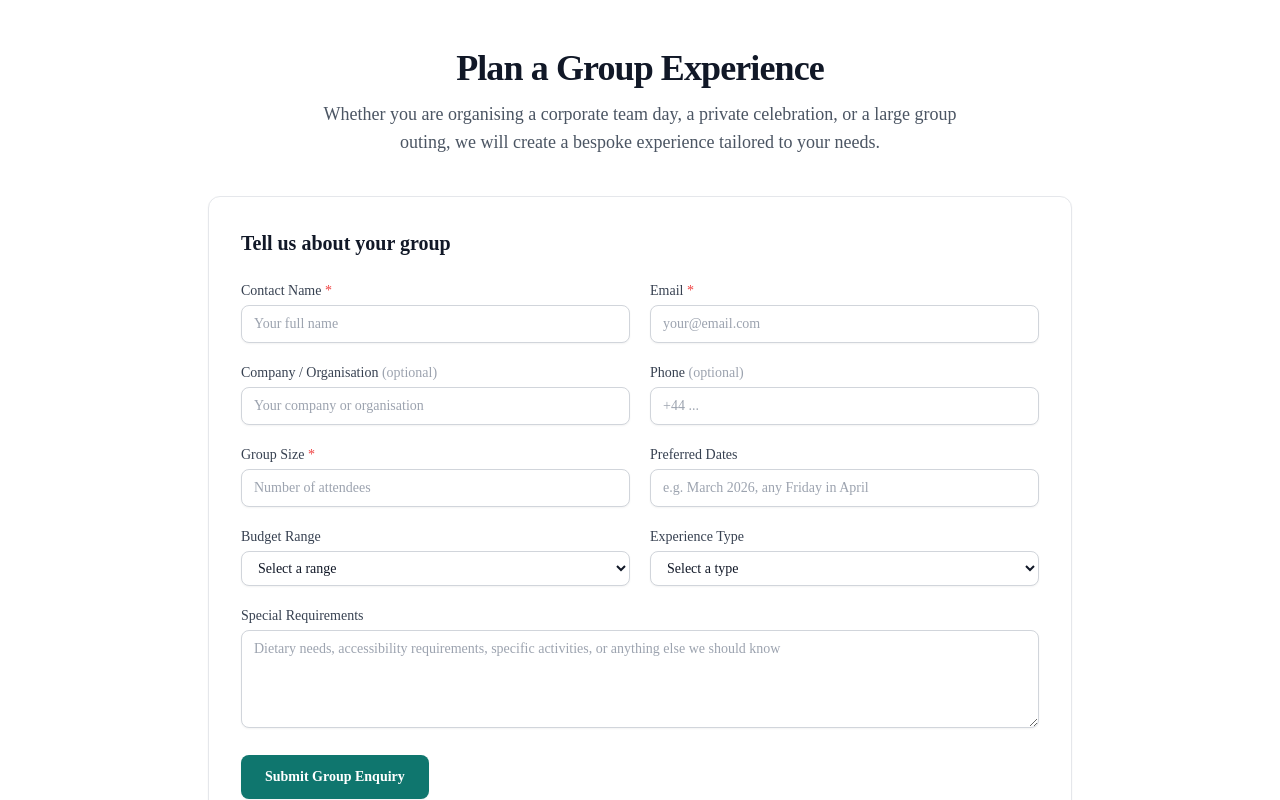
Test: GroupEnquiryPage › shows error when submission fails
The width and height of the screenshot is (1280, 800).
Type "John" into the field labelled "Contact Name *".
click(436, 324); type("John")  # box top-left (241, 305), bottom-right (630, 343)
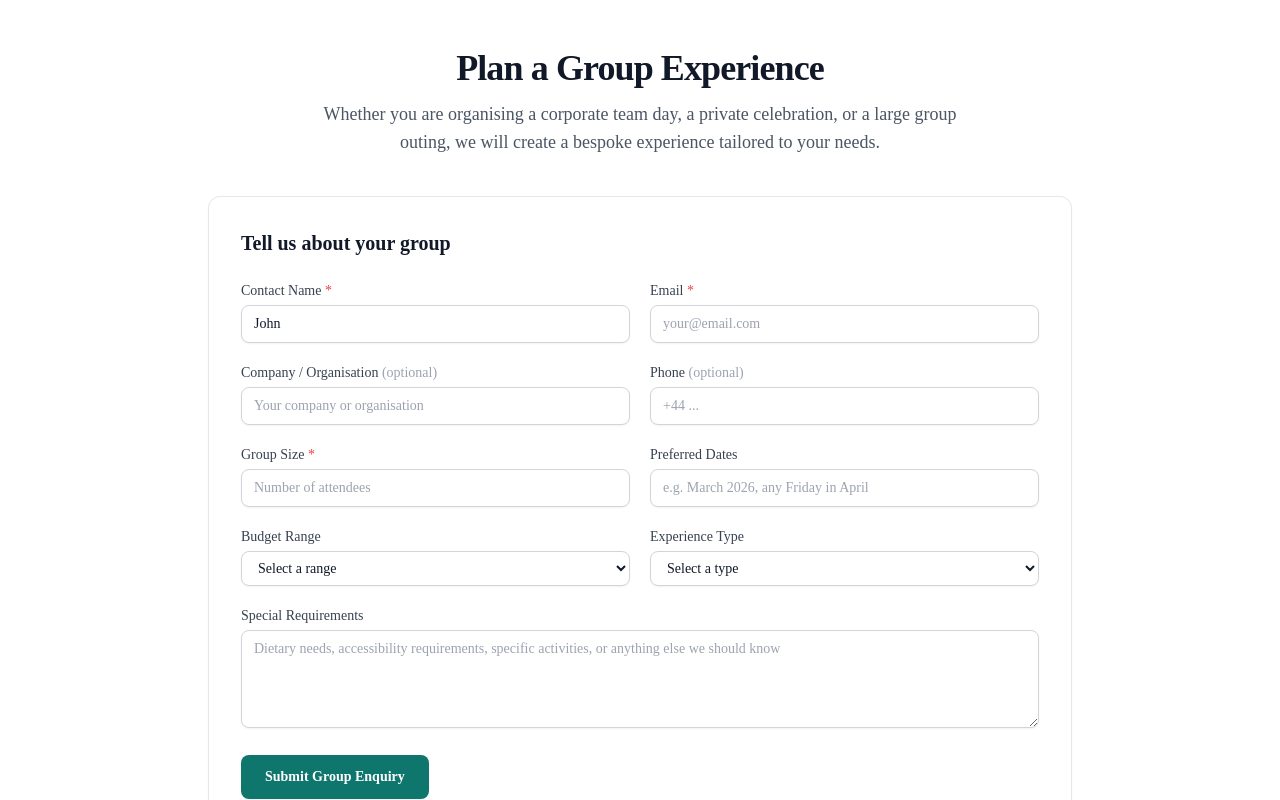
Type "john@test.com" into the field labelled "Email *".
click(844, 324); type("john@test.com")  # box top-left (650, 305), bottom-right (1039, 343)
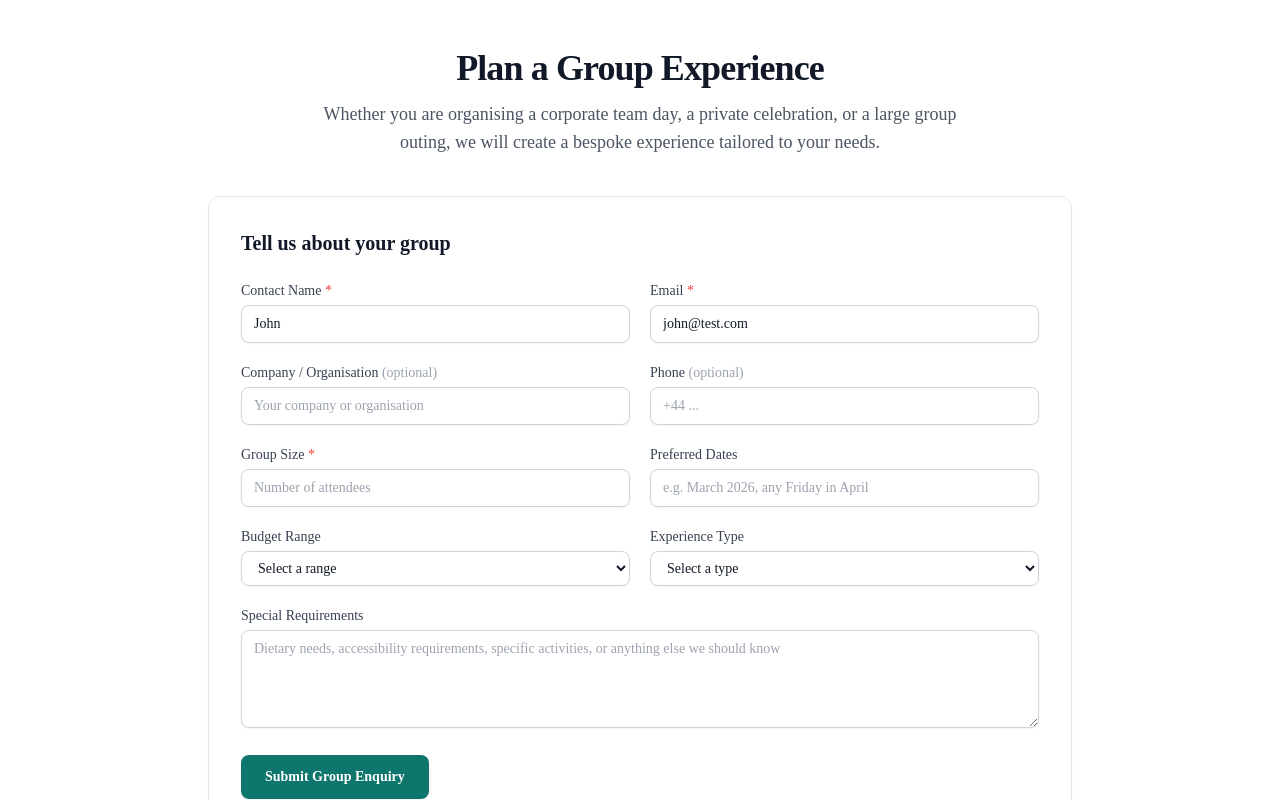
Type "15" into the number field labelled "Group Size *".
click(436, 488); type("15")  # box top-left (241, 469), bottom-right (630, 507)
(page scrolled)
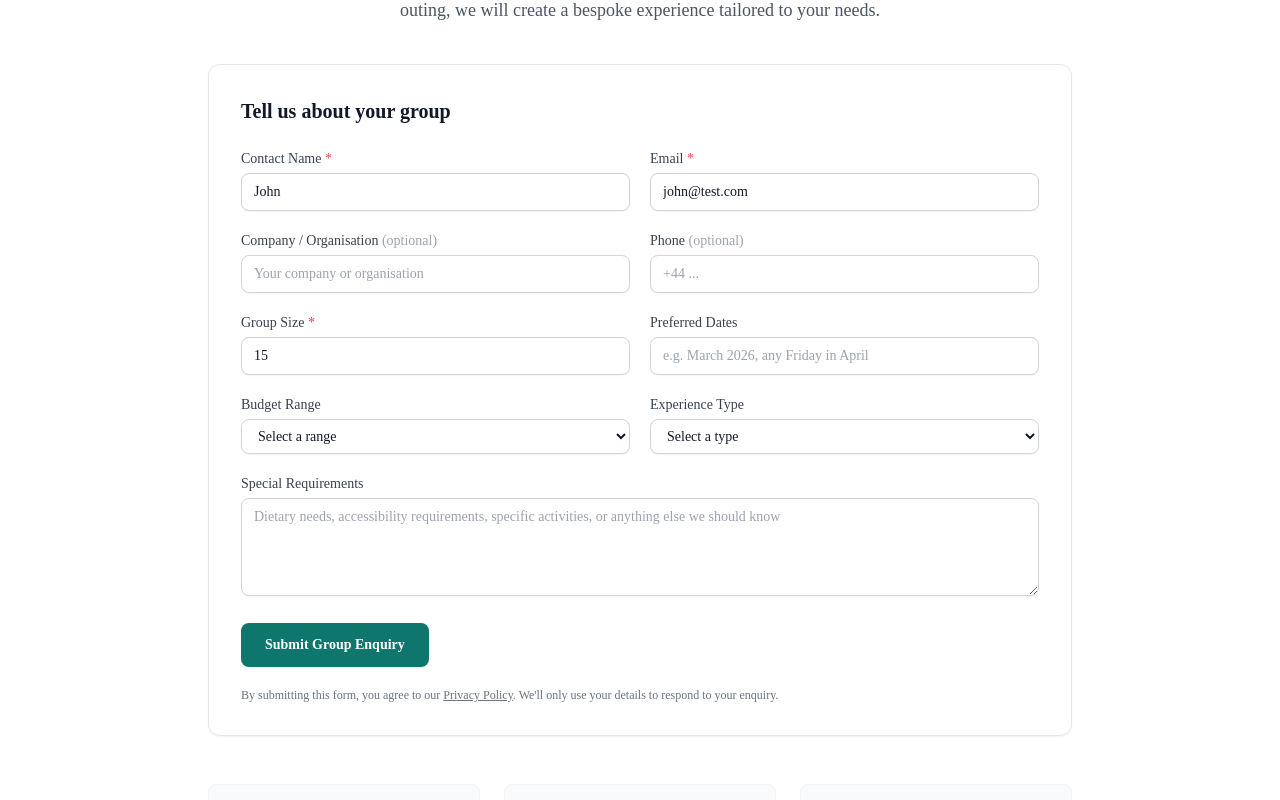
Submit the form labelled "Contact Name", box top-left (208, 64), bottom-right (1072, 736)
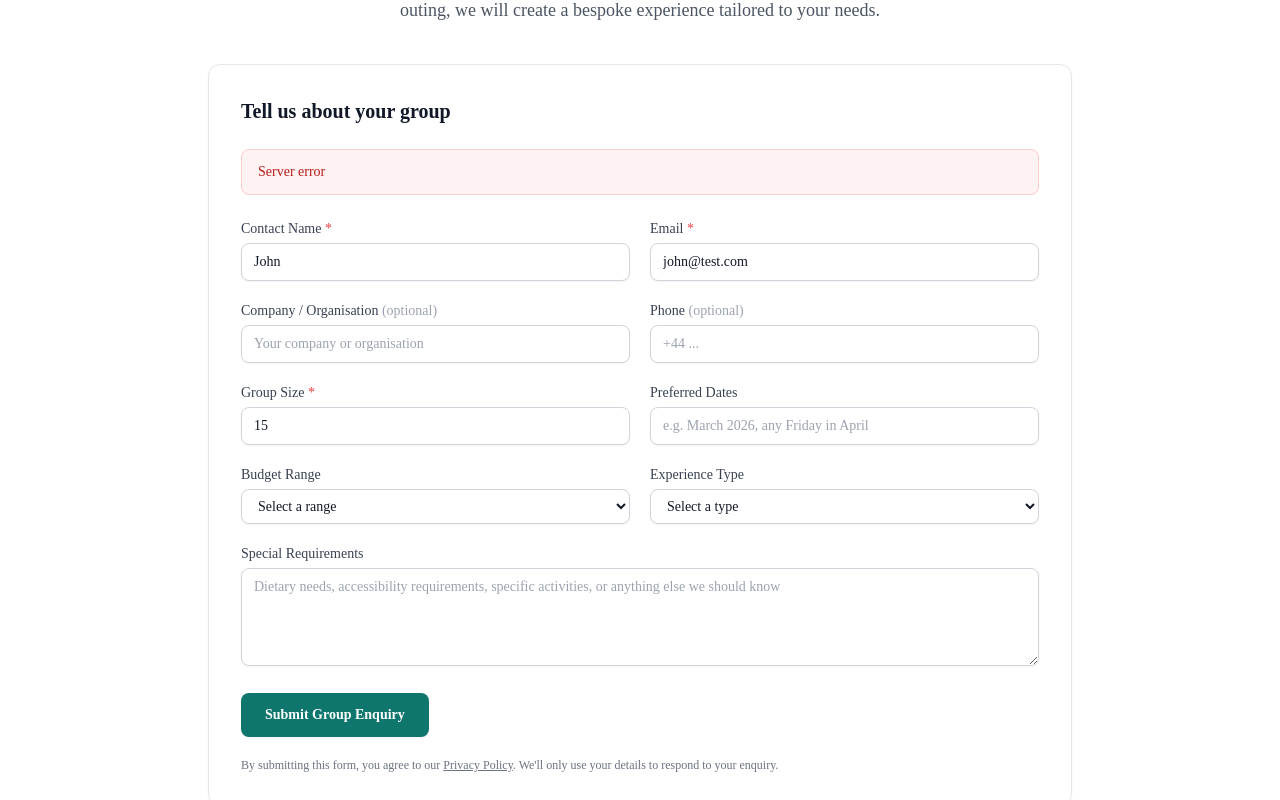
Now the text "Server error" is shown, box top-left (241, 149), bottom-right (1039, 195)
